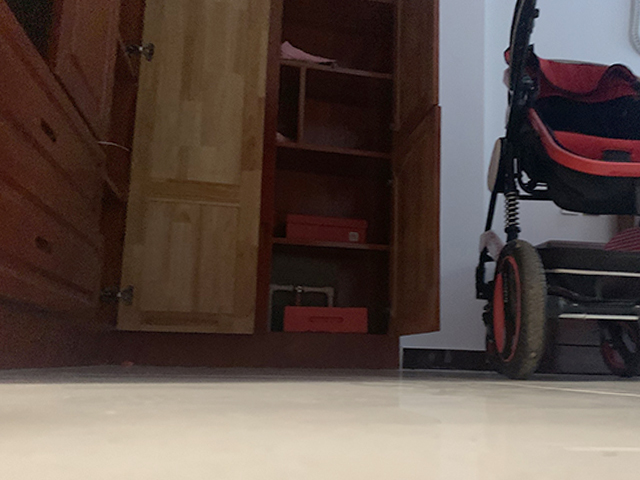cabinet: (122, 24, 441, 371), (1, 5, 130, 368)
